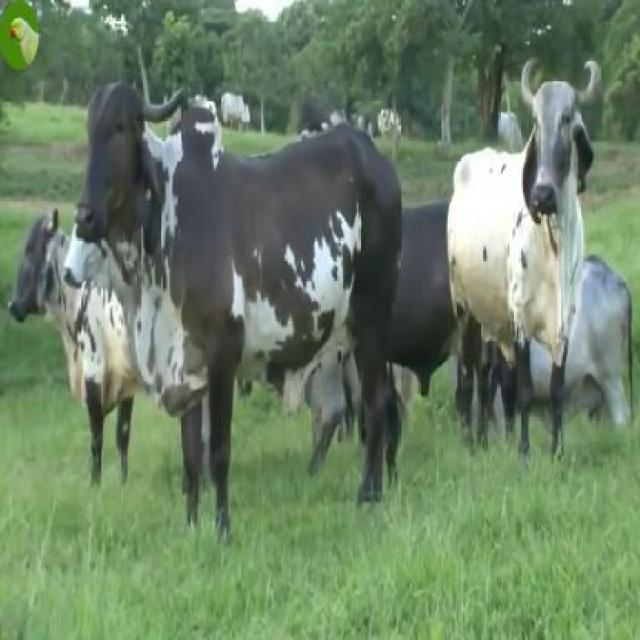Cow: (79, 80, 403, 518), (448, 60, 600, 457)
